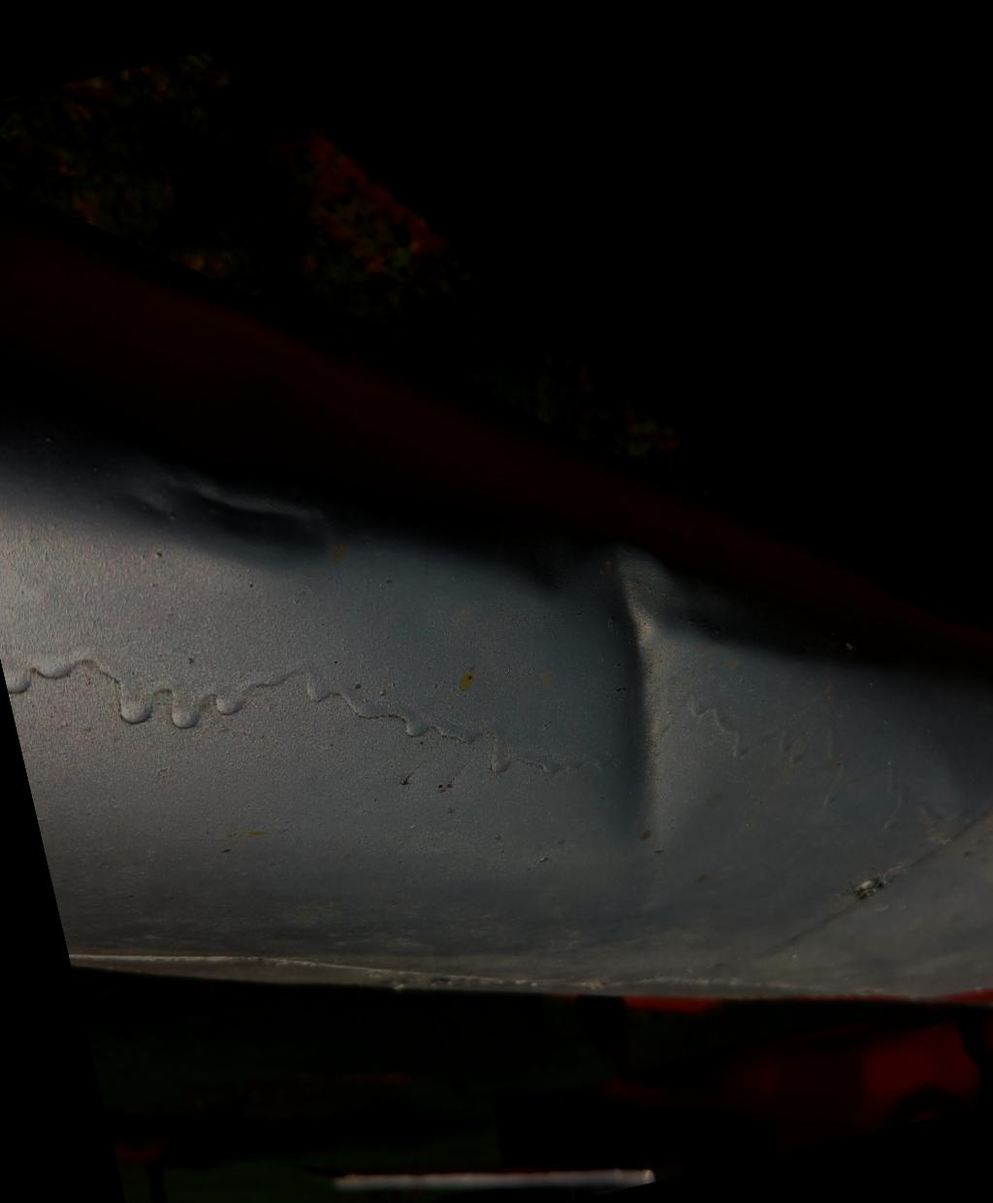dent: (454, 473, 785, 898), (69, 366, 375, 654)
